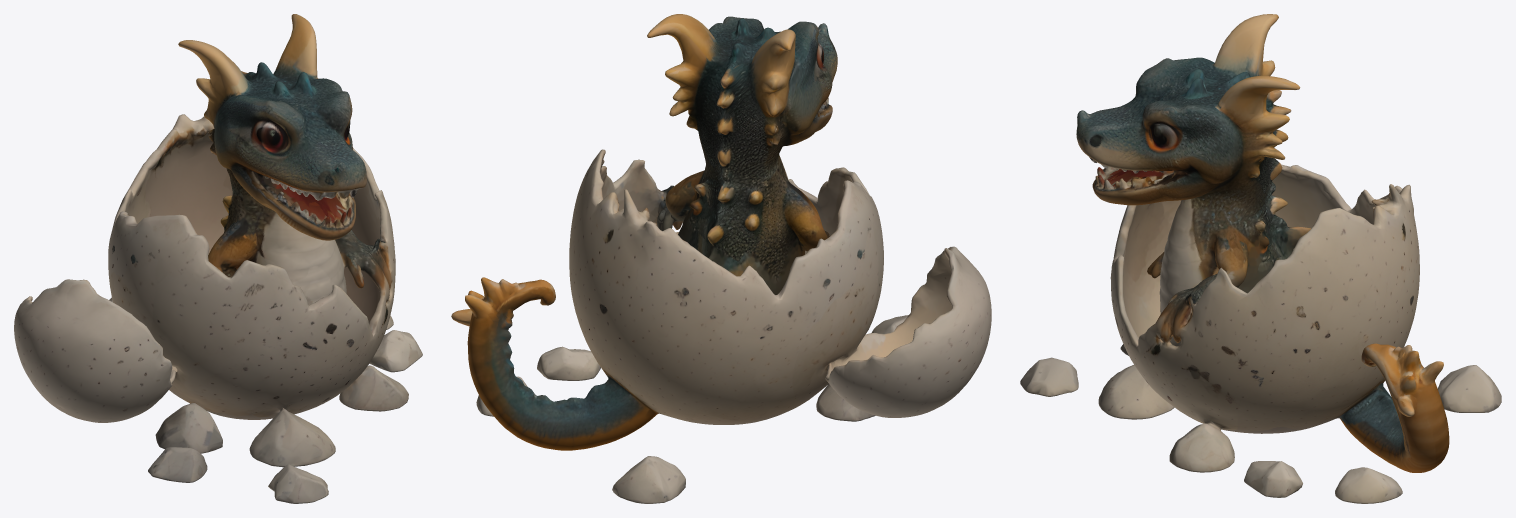
The model's file is romantex_3.glb.
The picture shows the model from 3 angles, left to right: view 1: azimuth 30°, elevation 25°; view 2: azimuth 150°, elevation 25°; view 3: azimuth 270°, elevation 25°; orthographic projection. The views are drawn at different scales.
Visible parts, largest first — view 1: texture_v130_hdr_21w_pbr_dino_11w.001; view 2: texture_v130_hdr_21w_pbr_dino_11w.001; view 3: texture_v130_hdr_21w_pbr_dino_11w.001.
Part boxes in pixels (<box>): texture_v130_hdr_21w_pbr_dino_11w.001: <box>14,14,422,503</box>; texture_v130_hdr_21w_pbr_dino_11w.001: <box>451,14,991,503</box>; texture_v130_hdr_21w_pbr_dino_11w.001: <box>1020,14,1501,503</box>.
Size of the model in its own units: 2 by 1.7 by 1.95.
Materials: 1 (1 with a texture image).
